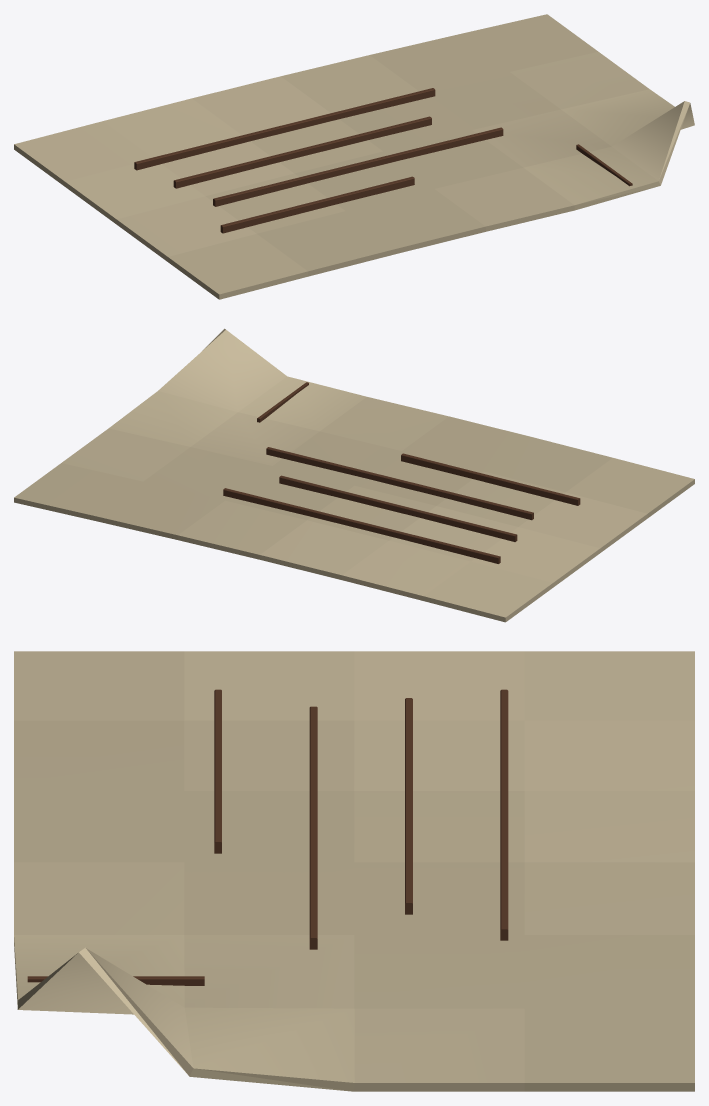
File: prop_ground_note_a.glb
The picture shows the model from 3 angles, top to bottom: view 1: azimuth 30°, elevation 25°; view 2: azimuth 150°, elevation 25°; view 3: azimuth 270°, elevation 25°; orthographic projection. The views are drawn at different scales.
Parts seen in each view (by area): view 1: prop_ground_note_a_mesh; view 2: prop_ground_note_a_mesh; view 3: prop_ground_note_a_mesh.
Boxes of the visible parts, <box> form: prop_ground_note_a_mesh: <box>14,14,694,299</box>; prop_ground_note_a_mesh: <box>14,328,694,622</box>; prop_ground_note_a_mesh: <box>14,651,694,1091</box>.
Bounding box in the file's own units: 0.4201 × 0.0484 × 0.28.
